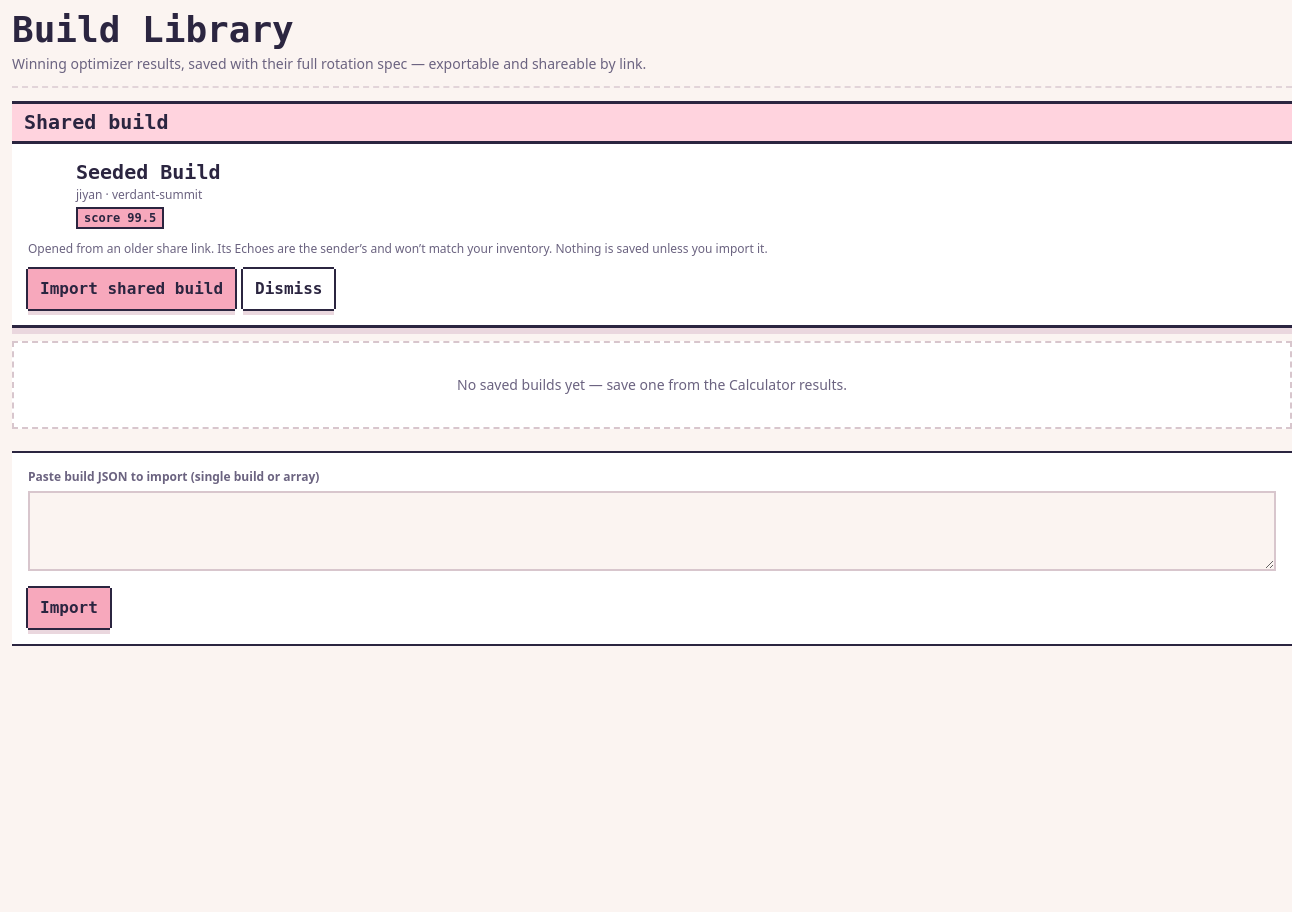
it: BuildsPage › dismisses a shared build without saving it
Click the button "Dismiss": (289, 289) 243,269 -> 334,309
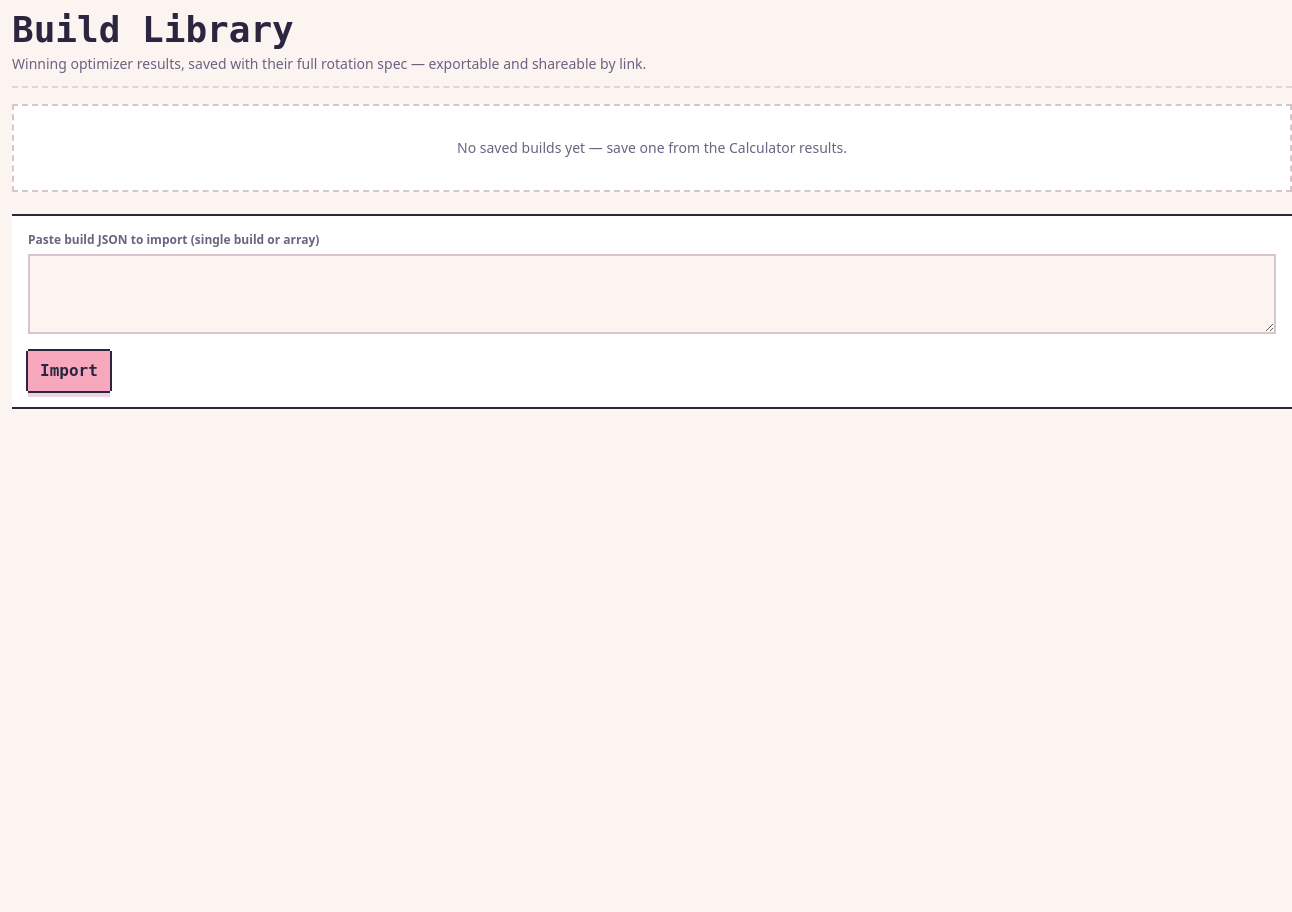
Now the heading "Shared build" is gone
